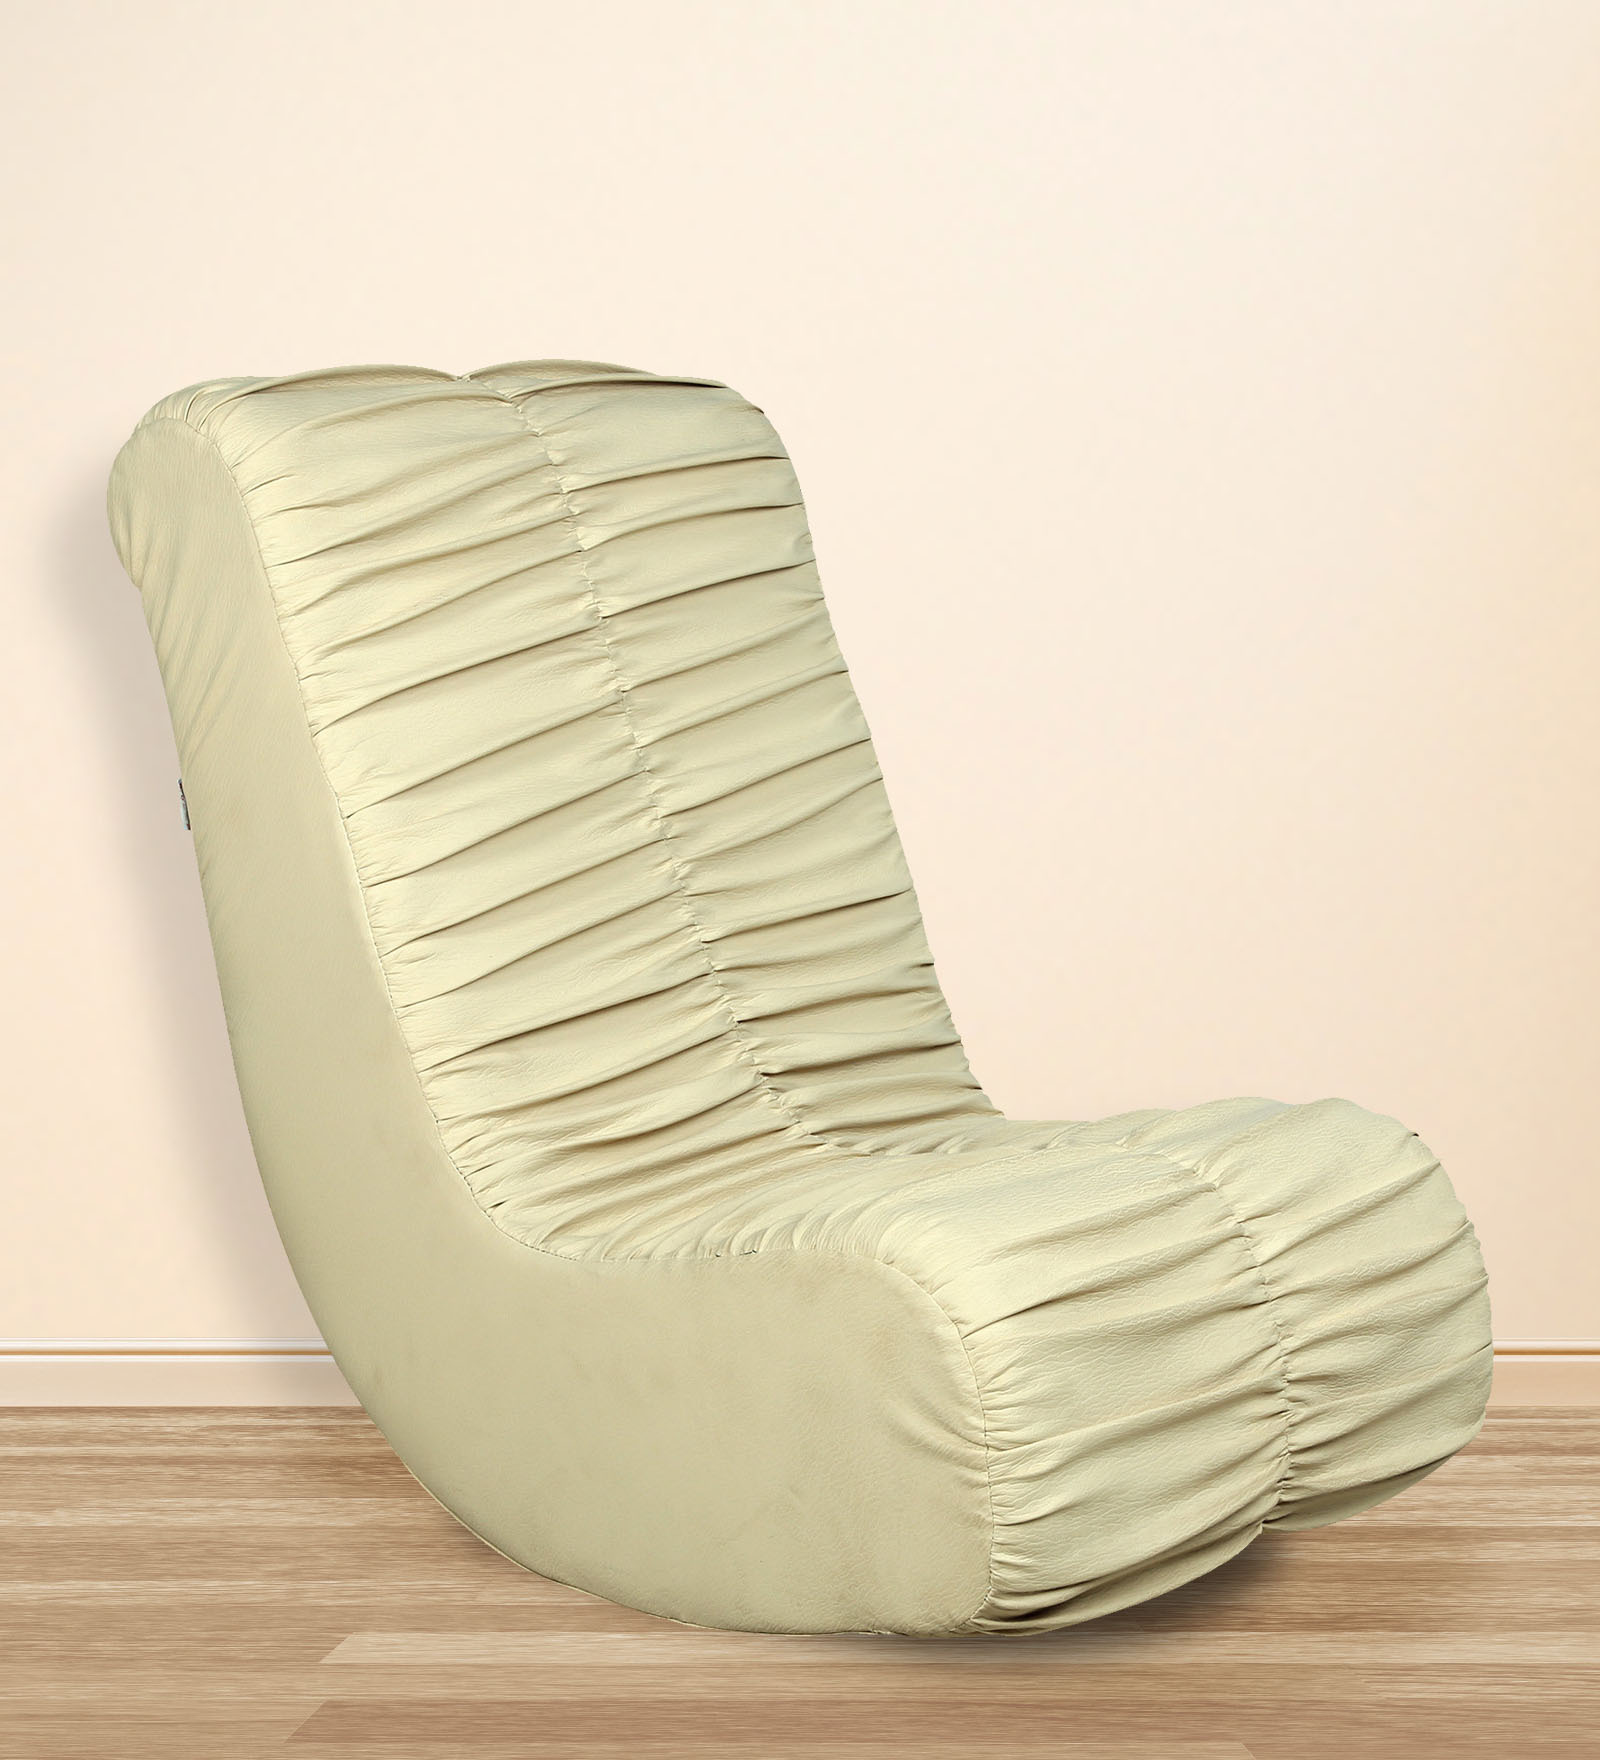Daisy Rocking Chair in Ivory Colour by Parin: (100, 323, 1563, 1653)
